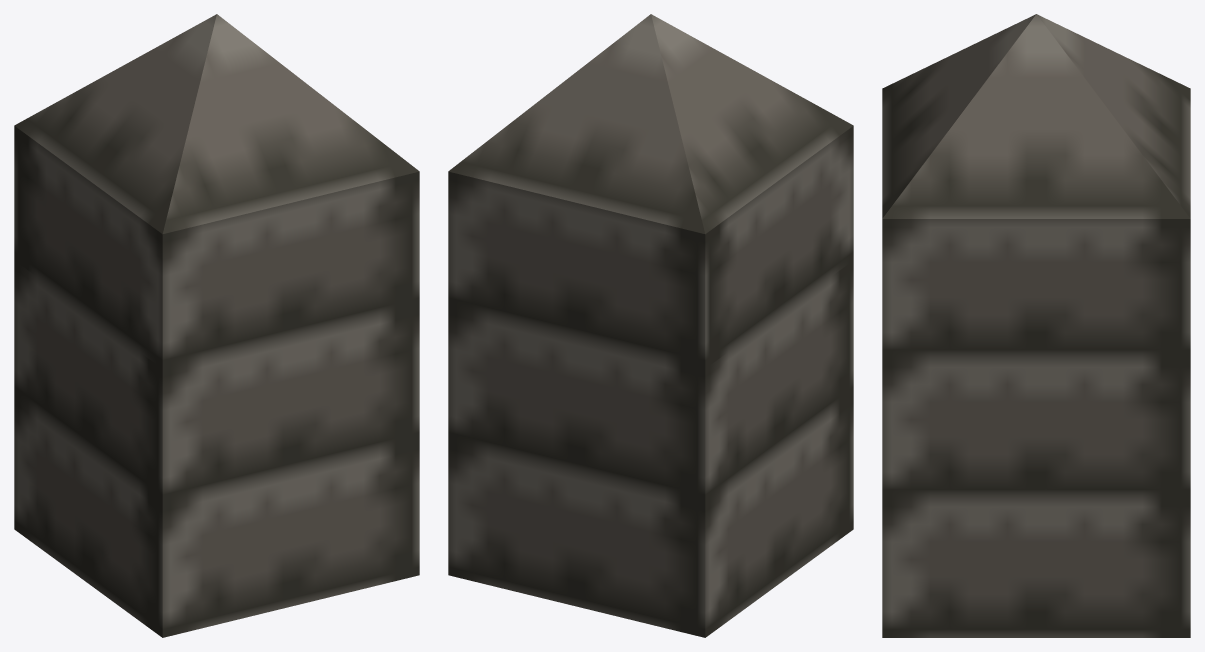
The model's file is Railing_Corner_1.fbx.
The picture shows the model from 3 angles, left to right: view 1: azimuth 30°, elevation 25°; view 2: azimuth 150°, elevation 25°; view 3: azimuth 270°, elevation 25°; orthographic projection. The views are drawn at different scales.
Parts seen in each view (by area): view 1: Railing_Corner_1; view 2: Railing_Corner_1; view 3: Railing_Corner_1.
Part boxes in pixels (x1,y1,x2,y2): Railing_Corner_1: (14,14,419,637); Railing_Corner_1: (448,14,853,637); Railing_Corner_1: (882,14,1190,637).
Size of the model in its own units: 100 by 200 by 100.
1 material, 1 textured.
